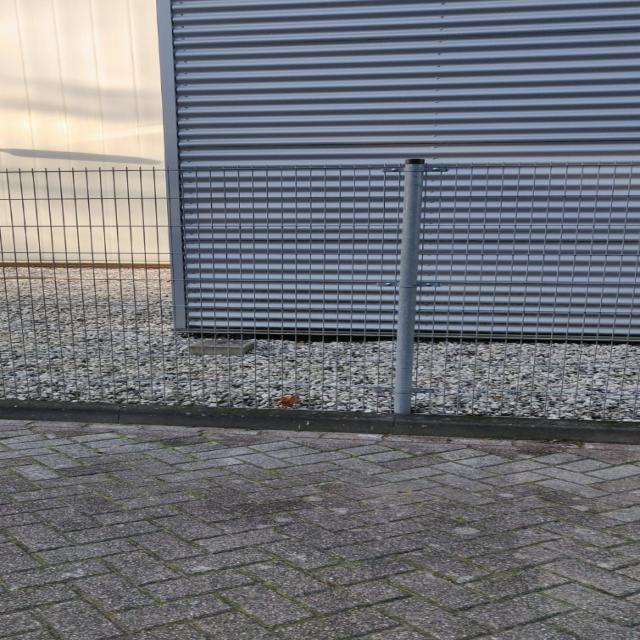fence line: (1, 161, 640, 417)
